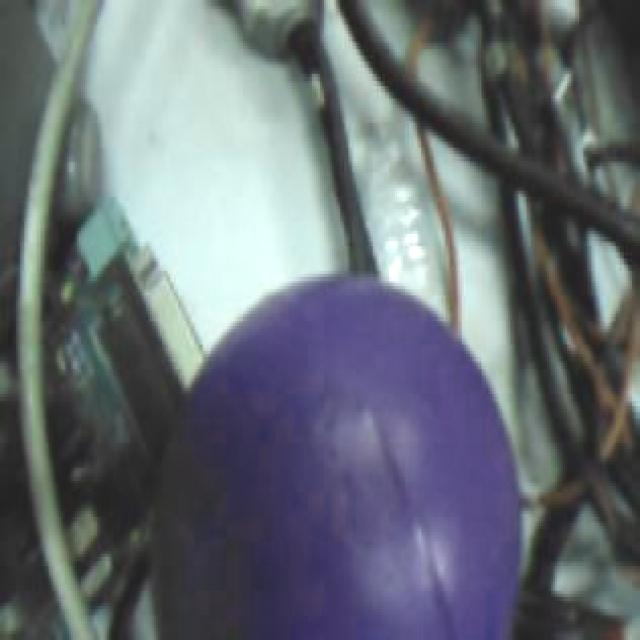BallPurple: (150, 267, 523, 640)
